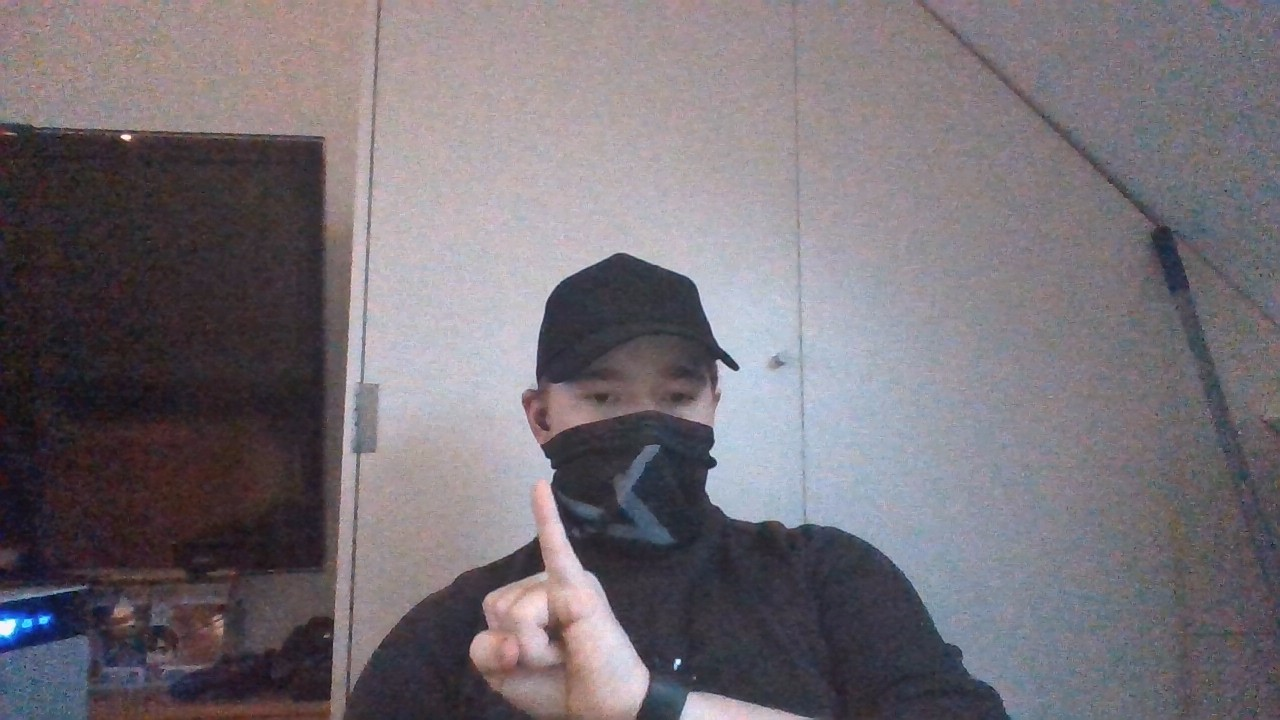I" Sign language: (450, 477, 641, 720)
